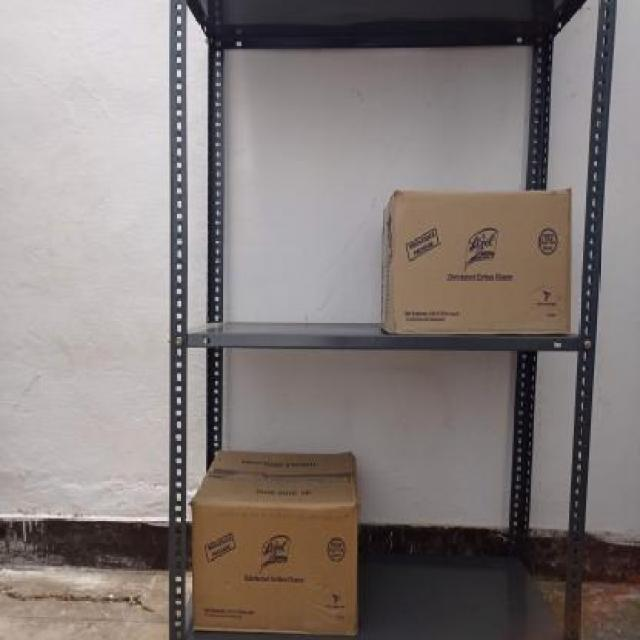box: (388, 192, 572, 334), (192, 503, 357, 620)
